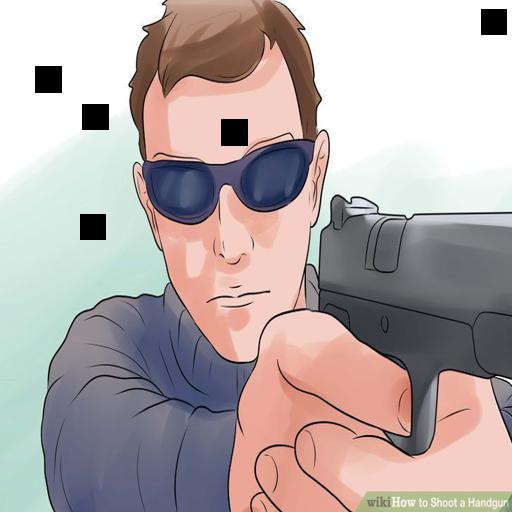Handgun: (292, 181, 511, 453)
